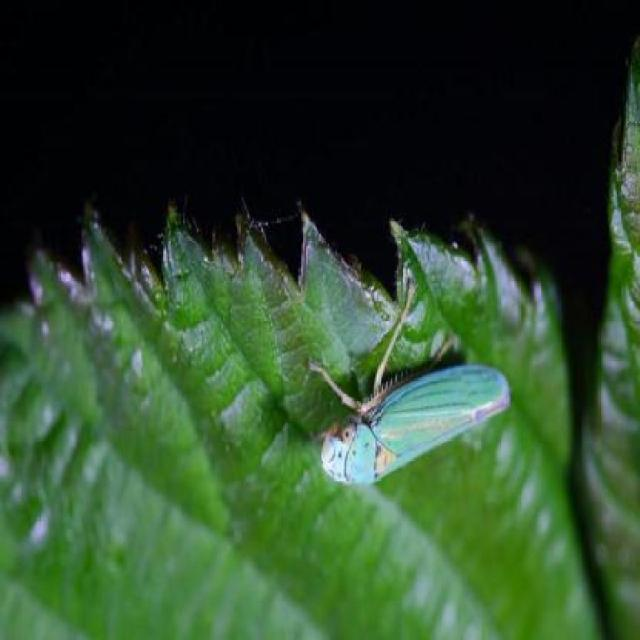green-leafhopper: (321, 328, 514, 492)
